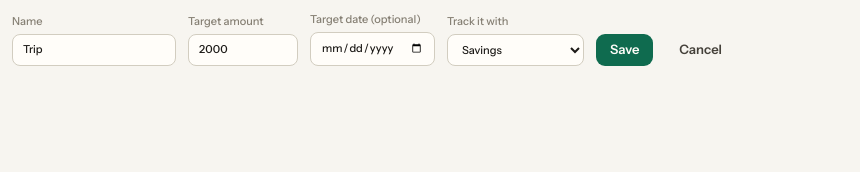
Test case: GoalForm › shows an amount kept by hand when switching away from an account
This screenshot has width=860, height=172.
expect the field labelled "Saved so far" is not shown: met
Select "I'll update it myself" in the dropdown labelled "Track it with". click: coordinates (516, 50)
box: [447, 34, 584, 66]
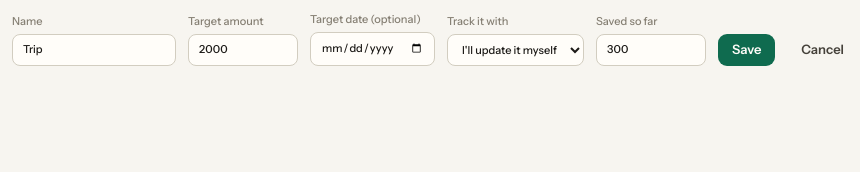
expect the field labelled "Saved so far" holds "300": met, box [596, 34, 706, 66]
